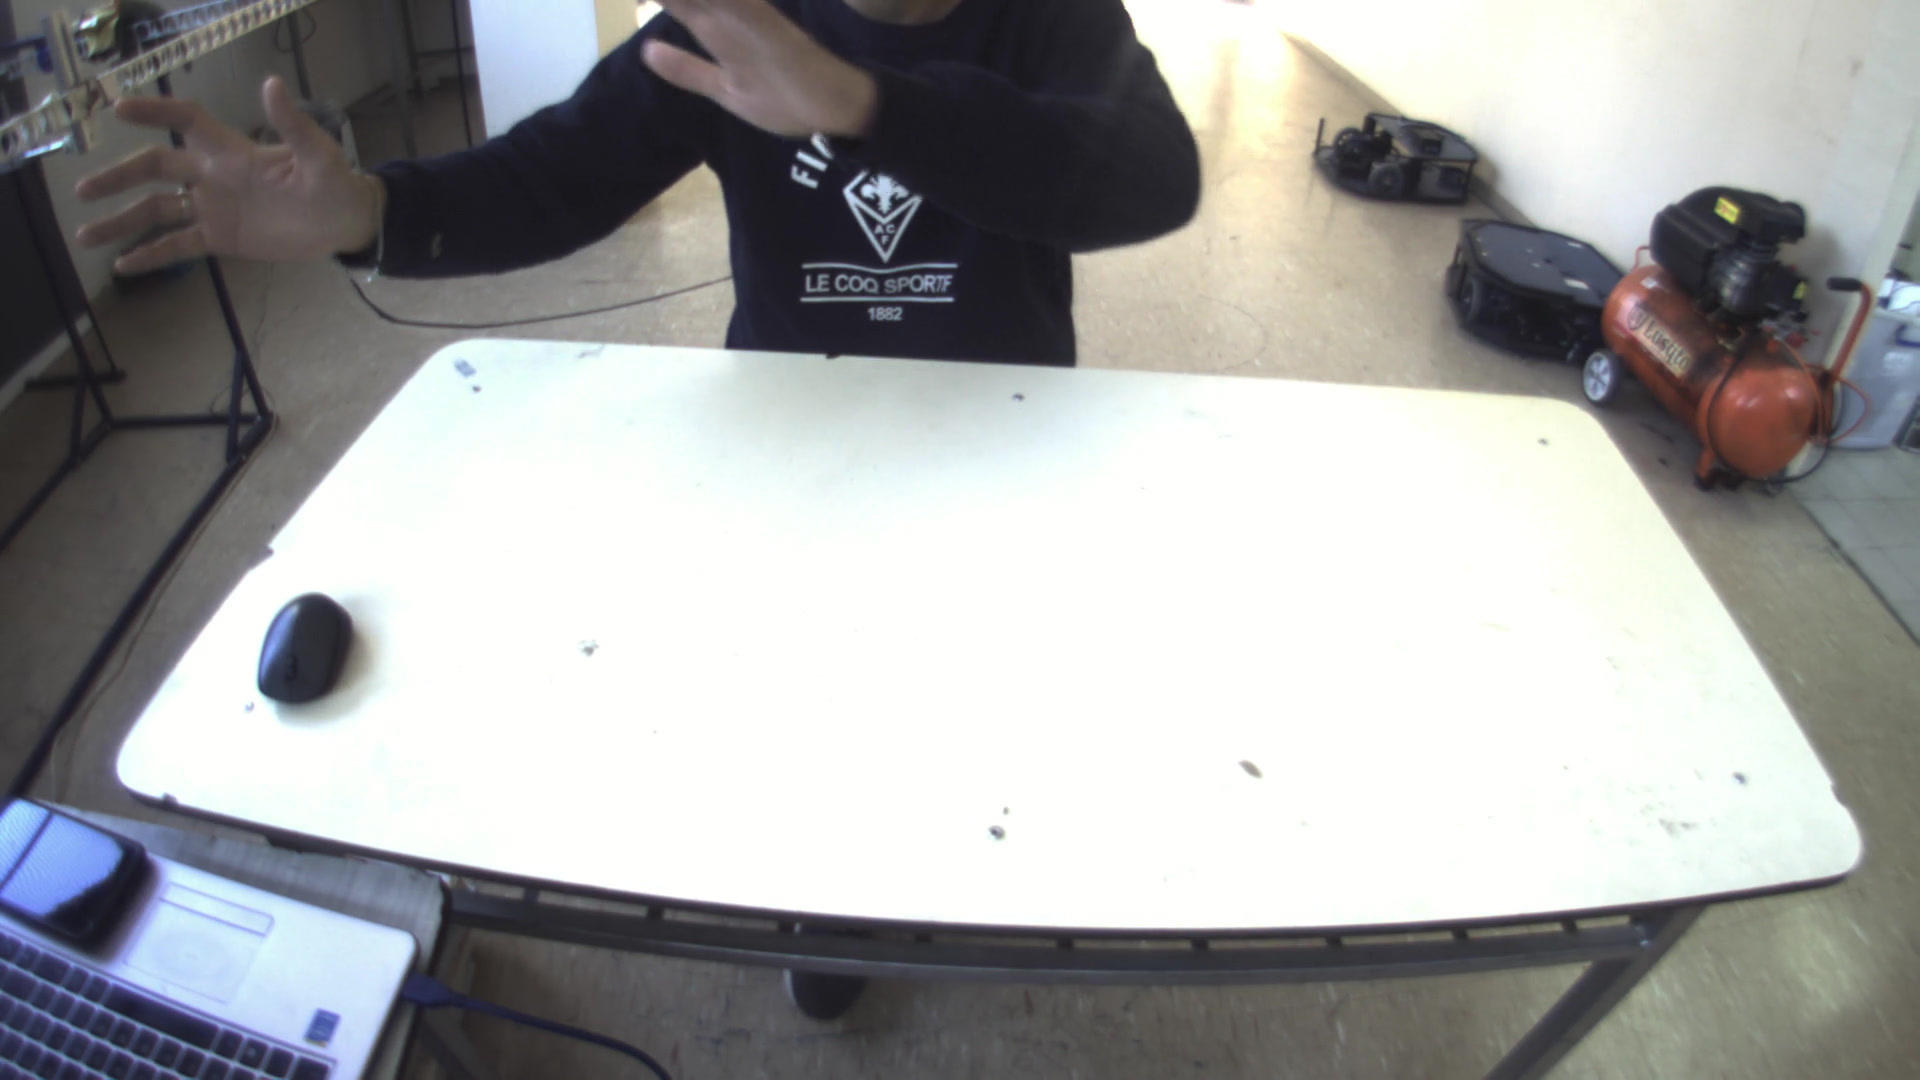hand: (54, 61, 382, 281), (644, 1, 870, 145)
